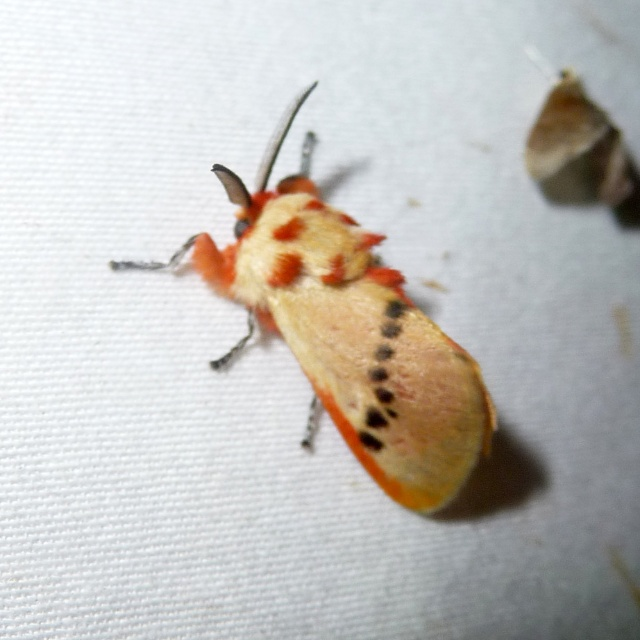Moths and butterflies: (106, 74, 499, 516)
